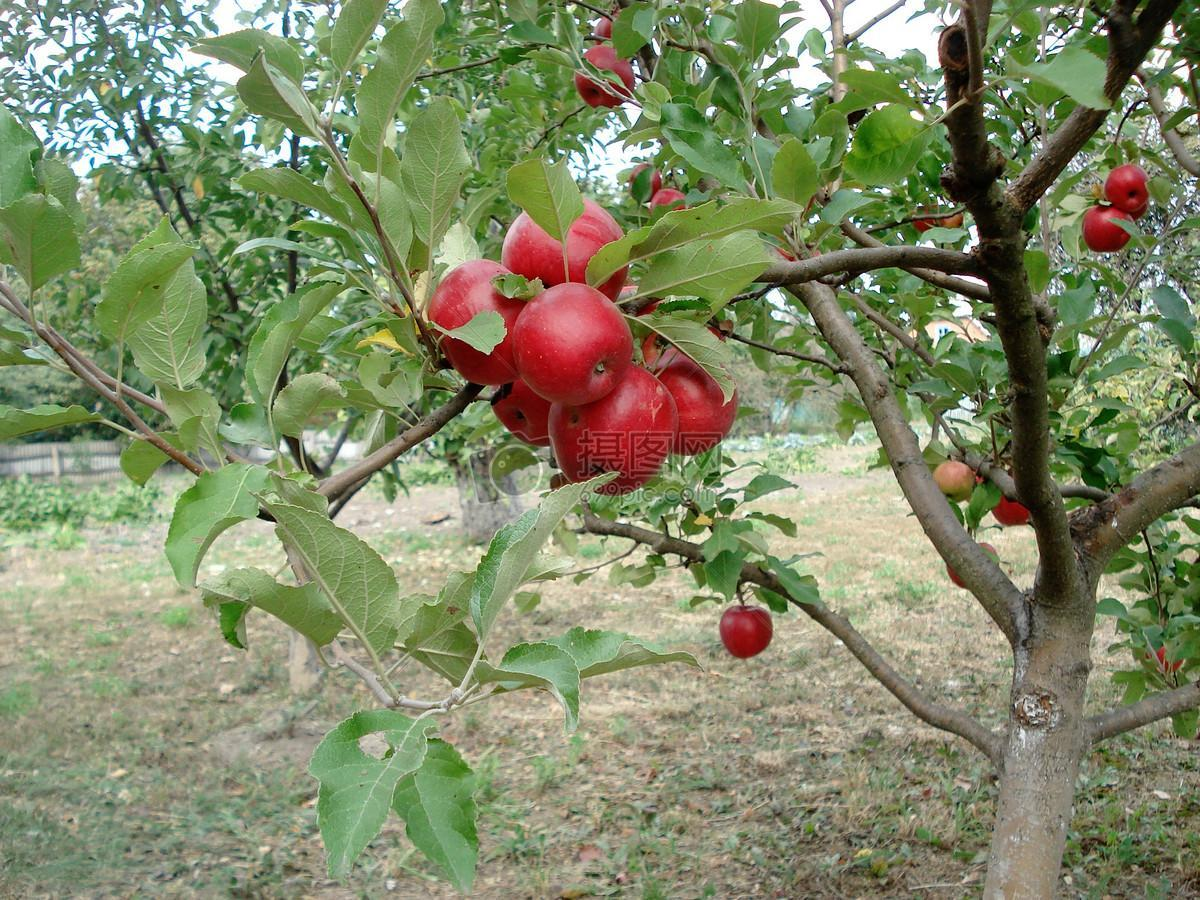apple: (421, 262, 552, 386), (547, 367, 677, 488), (511, 281, 633, 408), (640, 335, 736, 454), (499, 208, 596, 292), (577, 44, 634, 109), (717, 604, 773, 659), (1101, 163, 1149, 217), (1079, 206, 1132, 252), (931, 460, 977, 497), (626, 163, 659, 205), (989, 497, 1032, 526), (646, 187, 685, 218)
